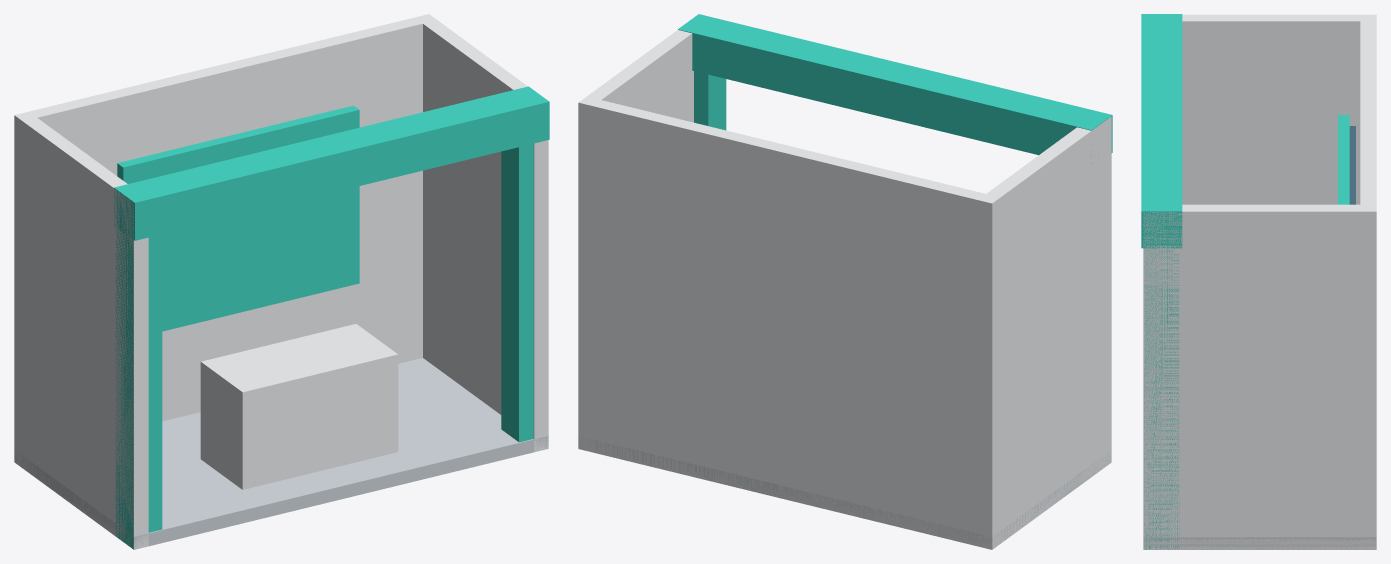
The picture shows the model from 3 angles, left to right: view 1: azimuth 30°, elevation 25°; view 2: azimuth 150°, elevation 25°; view 3: azimuth 270°, elevation 25°; orthographic projection. The views are drawn at different scales.
Parts seen in each view (by area): view 1: Exhibition Booth Concept; view 2: Exhibition Booth Concept; view 3: Exhibition Booth Concept.
Boxes of the visible parts, x1,y1,x2,y2 form: Exhibition Booth Concept: (14, 14, 549, 549); Exhibition Booth Concept: (578, 14, 1112, 549); Exhibition Booth Concept: (1141, 14, 1376, 549).
Bounding box in the file's own units: 4 × 3.2 × 2.01.
